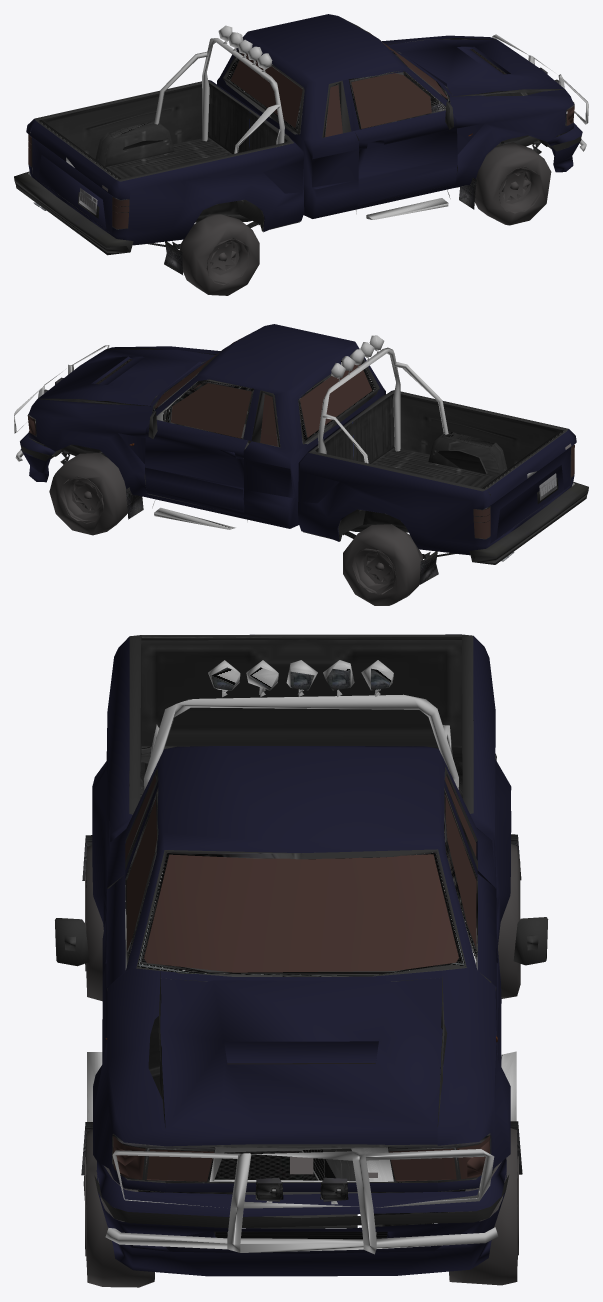
Rendered from car-pickup.pickup-v2.lod0.glb.
The picture shows the model from 3 angles, top to bottom: view 1: azimuth 30°, elevation 25°; view 2: azimuth 150°, elevation 25°; view 3: azimuth 270°, elevation 25°; orthographic projection. The views are drawn at different scales.
Visible parts, largest first — view 1: krmlgtbdy85_Body_krmlgtbdy85_Bodymat_0, krmlgtbdy85_Bumper_Rear_UCB_BOTTOM_0; view 2: krmlgtbdy85_Body_krmlgtbdy85_Bodymat_0, krmlgtbdy85_Bumper_Rear_UCB_BOTTOM_0; view 3: krmlgtbdy85_Body_krmlgtbdy85_Bodymat_0, krmlgtbdy85_Bumper_Rear_UCB_BOTTOM_0.
Part boxes in pixels (bbox=[...]): krmlgtbdy85_Body_krmlgtbdy85_Bodymat_0: bbox=[26, 14, 582, 295]; krmlgtbdy85_Bumper_Rear_UCB_BOTTOM_0: bbox=[14, 17, 588, 274]; krmlgtbdy85_Body_krmlgtbdy85_Bodymat_0: bbox=[20, 324, 576, 605]; krmlgtbdy85_Bumper_Rear_UCB_BOTTOM_0: bbox=[14, 335, 588, 584]; krmlgtbdy85_Body_krmlgtbdy85_Bodymat_0: bbox=[83, 634, 520, 1287]; krmlgtbdy85_Bumper_Rear_UCB_BOTTOM_0: bbox=[55, 634, 548, 1254].
Bounding box in the file's own units: 4.88 × 1.91 × 2.11.
Materials: 2 (1 with a texture image).
